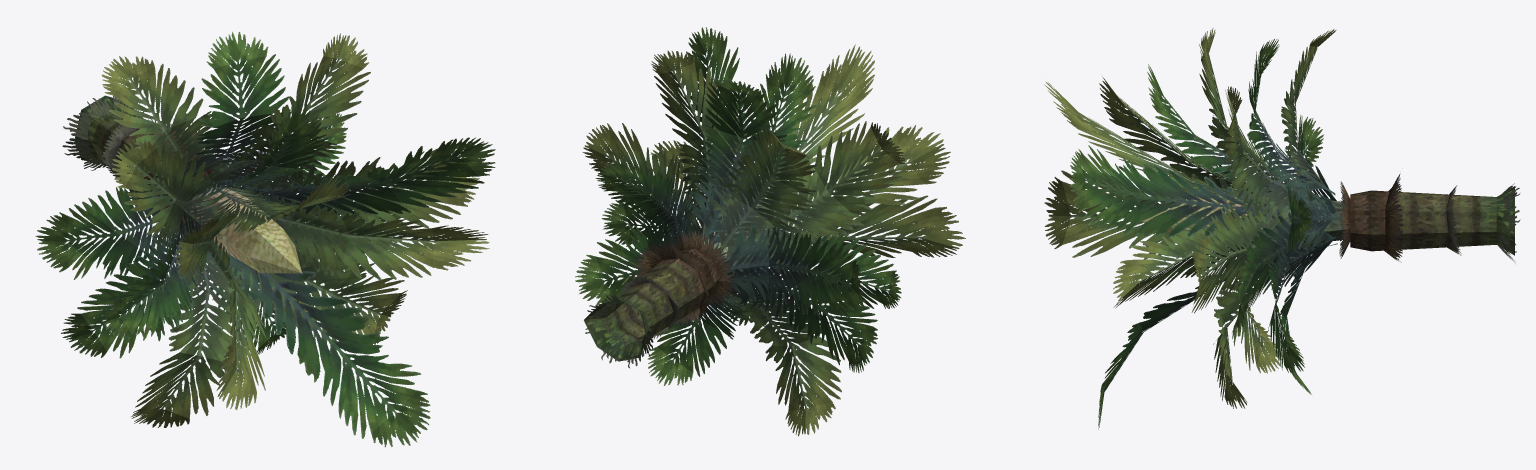
The model's file is rdzw_qm_c_sutie.obj.
3 views of the same model, side by side, from view 1: azimuth 30°, elevation 25°; view 2: azimuth 150°, elevation 25°; view 3: azimuth 270°, elevation 25° (orthographic). The views are drawn at different scales.
Visible parts, largest first — view 1: rdzw_qm_c_sutie; view 2: rdzw_qm_c_sutie; view 3: rdzw_qm_c_sutie.
Boxes of the visible parts, bbox=[...] form: rdzw_qm_c_sutie: bbox=[35, 31, 495, 447]; rdzw_qm_c_sutie: bbox=[575, 27, 965, 436]; rdzw_qm_c_sutie: bbox=[1044, 28, 1520, 429].
Size of the model in its own units: 201 by 189 by 225.
